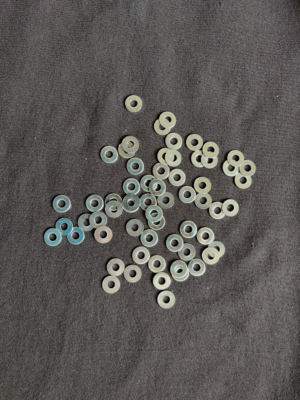circle: (153, 272, 171, 291), (172, 263, 190, 282), (44, 229, 62, 247), (56, 218, 74, 236), (67, 227, 85, 245), (95, 226, 113, 244), (126, 219, 144, 237), (123, 178, 141, 196), (149, 179, 167, 197), (146, 205, 164, 223), (148, 213, 166, 231), (132, 247, 150, 265), (158, 291, 176, 309), (169, 169, 187, 187), (191, 150, 209, 168), (179, 186, 197, 204), (180, 221, 198, 239), (170, 261, 188, 279), (188, 259, 206, 277), (197, 227, 215, 245), (202, 247, 220, 265), (108, 258, 125, 277), (54, 195, 71, 213), (78, 214, 96, 231), (90, 212, 107, 230), (86, 195, 104, 212), (101, 146, 118, 164), (118, 142, 136, 159), (122, 136, 139, 154), (125, 96, 143, 113), (103, 276, 120, 294), (125, 265, 142, 283), (105, 194, 123, 211), (123, 194, 141, 211), (149, 255, 166, 273), (157, 148, 175, 165), (186, 134, 204, 151), (194, 177, 212, 194), (209, 202, 226, 220), (222, 200, 240, 217), (166, 235, 184, 252), (223, 159, 240, 177), (154, 119, 171, 136), (160, 112, 177, 129), (106, 201, 123, 218), (123, 196, 140, 213), (127, 158, 144, 175), (141, 175, 158, 192), (140, 194, 157, 211), (141, 230, 158, 247), (158, 192, 175, 209), (153, 163, 170, 180), (165, 150, 182, 167), (166, 133, 183, 150), (201, 152, 218, 169), (203, 142, 220, 159), (195, 193, 212, 210), (179, 244, 196, 261), (235, 172, 252, 189), (228, 150, 245, 167), (209, 241, 225, 258), (240, 160, 256, 177)
